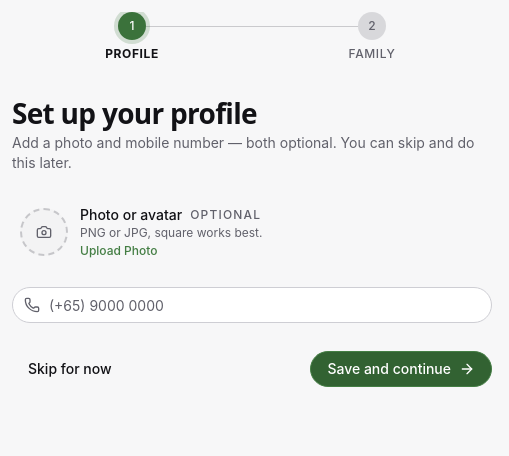
OnboardStepFamily — navigation (full wizard) › Back returns to the Profile step
Click the button "Skip for now". click: (70, 369)
box: [12,351,128,387]
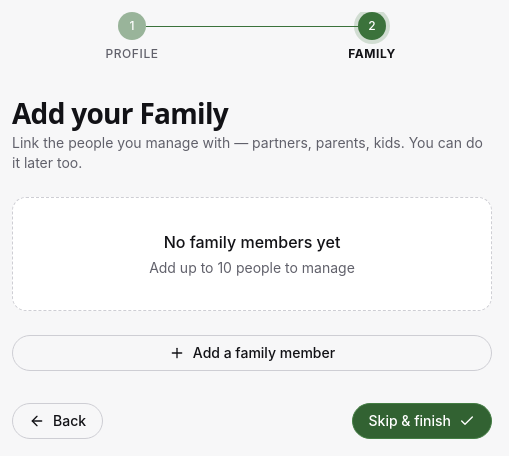
expect the heading "Add your Family" is shown: met, box [12,94,228,132]
Click the button "Back". click: (58, 421)
box: [12,403,103,439]
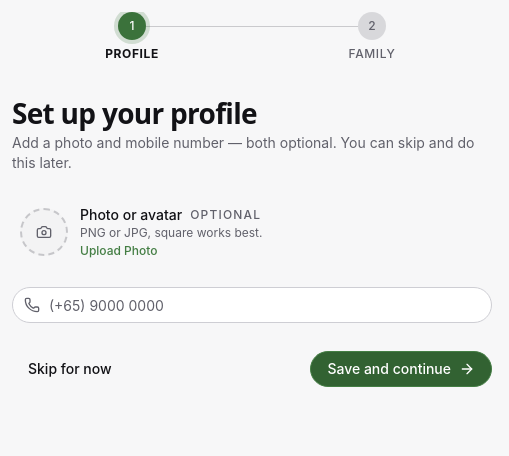
expect the heading "Set up your profile" is shown: met, box [12,94,257,132]
